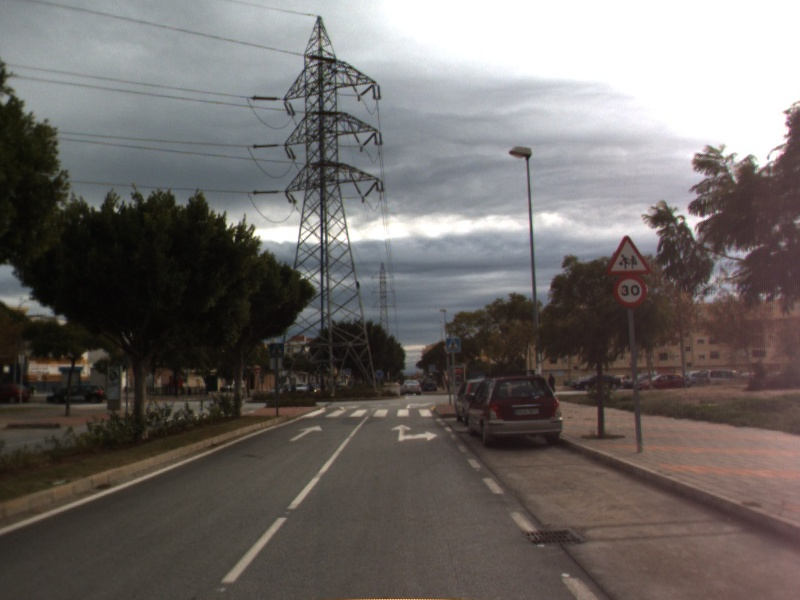STRAIGHT: (286, 423, 325, 443)
STRAIGHT_RIGHT: (389, 422, 439, 444)
